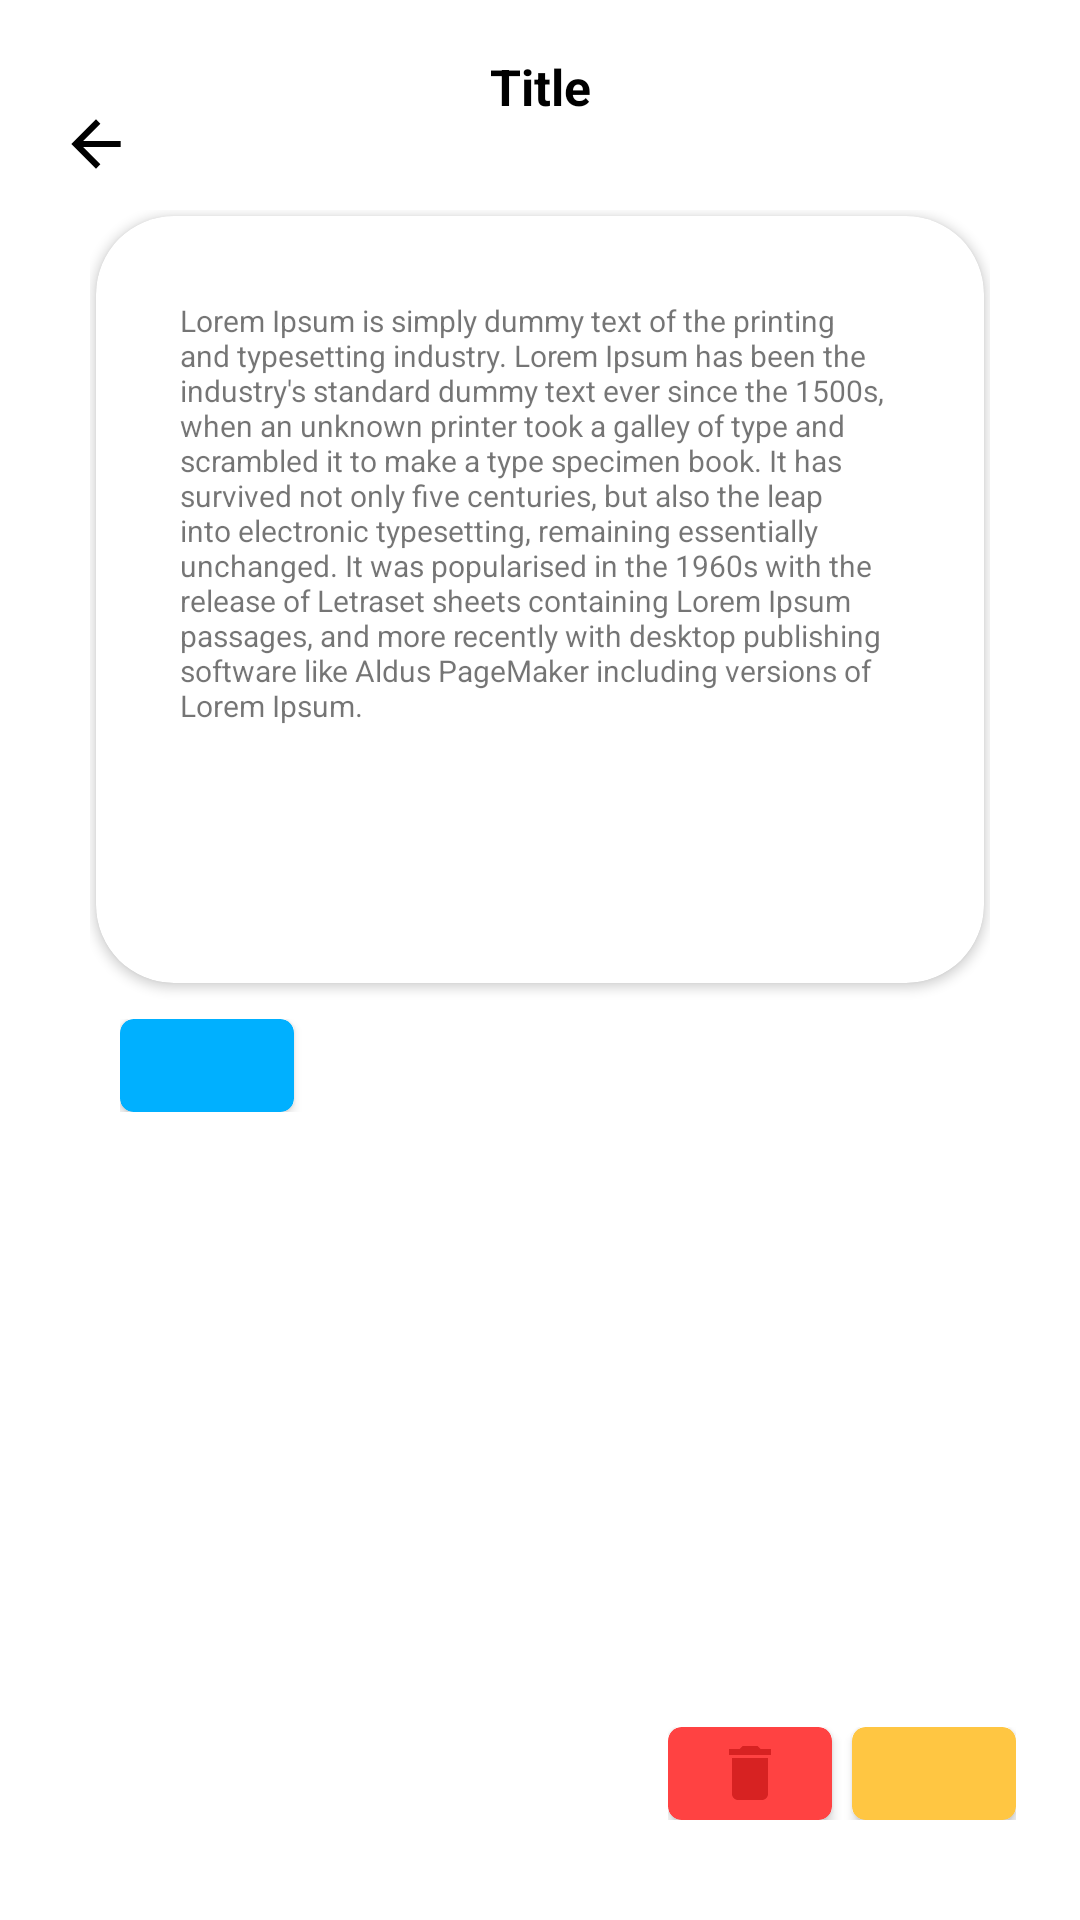

Locate icon controls on the screen. Image size 1080 x 1920, boxes as (left=x1, top=y1, right=x2, bottom=y2).
arrow back: (left=71, top=119, right=121, bottom=169)
